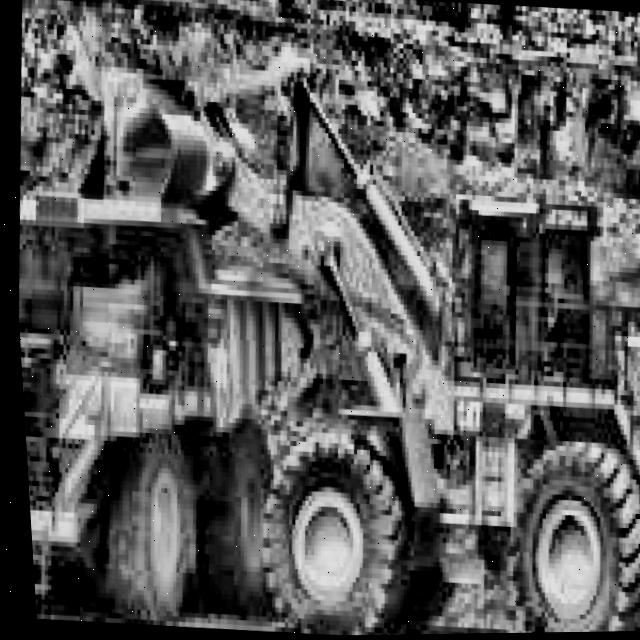buldozerpayloadergrader: (49, 10, 640, 639)
dump_truck: (6, 126, 367, 640)
